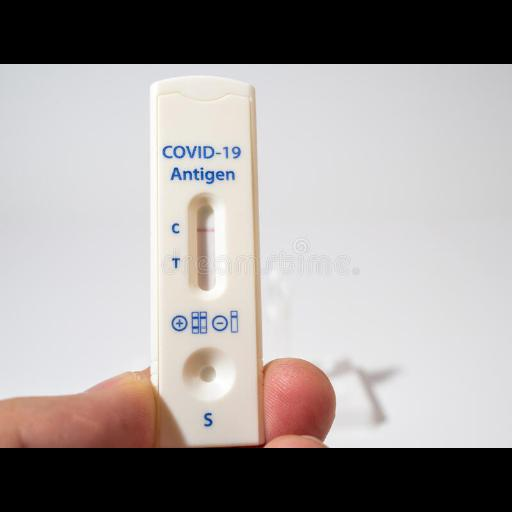Neg: (152, 78, 262, 442)
